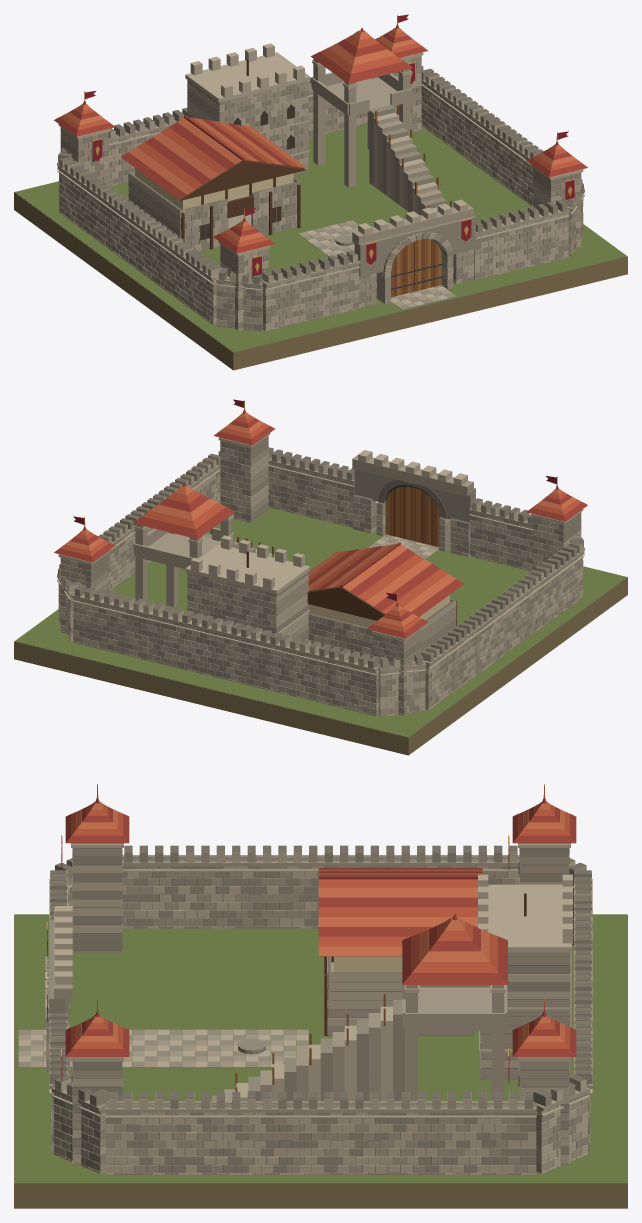
The model's file is stockade-nivel-5.glb.
The picture shows the model from 3 angles, top to bottom: view 1: azimuth 30°, elevation 25°; view 2: azimuth 150°, elevation 25°; view 3: azimuth 270°, elevation 25°; orthographic projection. The views are drawn at different scales.
Visible parts, largest first — view 1: stone_5_b1a38d, stone_5_c3b49a, stone_5_a09682, stone_5_738449, stone_5_8d7955, stone_5_9e4235, stone_5_82796a, stone_5_c66c49, stone_5_b9583c, stone_5_63422c, stone_5_dcc89b, stone_5_992b31 (+3 smaller); view 2: stone_5_b1a38d, stone_5_c3b49a, stone_5_a09682, stone_5_738449, stone_5_8d7955, stone_5_82796a, stone_5_9e4235, stone_5_b9583c, stone_5_c66c49, stone_5_63422c, stone_5_dcc89b, right_5_9c6237.001 (+3 smaller); view 3: stone_5_738449, stone_5_c3b49a, stone_5_b1a38d, stone_5_a09682, stone_5_82796a, stone_5_8d7955, stone_5_9e4235, stone_5_b9583c, stone_5_c66c49, stone_5_dcc89b.
Boxes of the visible parts, left/top/right/bottom form: stone_5_b1a38d: left=57, top=55, right=584, bottom=331; stone_5_c3b49a: left=57, top=43, right=584, bottom=330; stone_5_a09682: left=58, top=60, right=583, bottom=330; stone_5_738449: left=15, top=123, right=626, bottom=352; stone_5_8d7955: left=14, top=192, right=627, bottom=370; stone_5_9e4235: left=54, top=24, right=587, bottom=253; stone_5_82796a: left=14, top=58, right=627, bottom=352; stone_5_c66c49: left=65, top=27, right=576, bottom=241; stone_5_b9583c: left=60, top=30, right=581, bottom=247; stone_5_63422c: left=179, top=160, right=305, bottom=249; stone_5_dcc89b: left=135, top=168, right=293, bottom=209; stone_5_992b31: left=85, top=14, right=574, bottom=276; stone_5_b1a38d: left=57, top=446, right=584, bottom=716; stone_5_c3b49a: left=57, top=433, right=584, bottom=715; stone_5_a09682: left=58, top=436, right=583, bottom=716; stone_5_738449: left=15, top=507, right=626, bottom=737; stone_5_8d7955: left=14, top=577, right=627, bottom=755; stone_5_82796a: left=14, top=442, right=627, bottom=737; stone_5_9e4235: left=54, top=409, right=587, bottom=638; stone_5_b9583c: left=60, top=415, right=581, bottom=632; stone_5_c66c49: left=65, top=412, right=576, bottom=626; stone_5_63422c: left=307, top=586, right=456, bottom=626; stone_5_dcc89b: left=308, top=595, right=449, bottom=627; right_5_9c6237.001: left=389, top=486, right=413, bottom=540; stone_5_738449: left=14, top=914, right=627, bottom=1183; stone_5_c3b49a: left=18, top=844, right=592, bottom=1174; stone_5_b1a38d: left=18, top=846, right=592, bottom=1174; stone_5_a09682: left=18, top=846, right=592, bottom=1174; stone_5_82796a: left=14, top=845, right=627, bottom=1183; stone_5_8d7955: left=14, top=915, right=627, bottom=1208; stone_5_9e4235: left=65, top=798, right=576, bottom=1056; stone_5_b9583c: left=72, top=804, right=569, bottom=1048; stone_5_c66c49: left=77, top=802, right=564, bottom=1042; stone_5_dcc89b: left=334, top=956, right=402, bottom=972.
Bounding box in the file's own units: 32.8 × 12.52 × 31.6.
